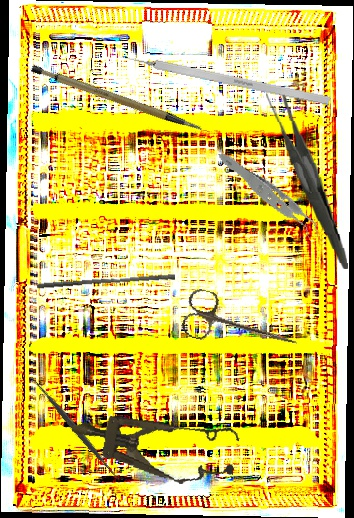Dressing Forceps: (265, 82, 348, 274)
Hook Surgical: (112, 50, 331, 106)
Iris Scissors: (179, 286, 305, 365)
Pusher: (36, 268, 176, 295)
Scalpel Handle: (28, 43, 205, 158)
Spatula Surgical: (25, 371, 127, 487)
Speculum: (66, 394, 242, 494)
Tissue Forceps: (217, 131, 323, 266)
